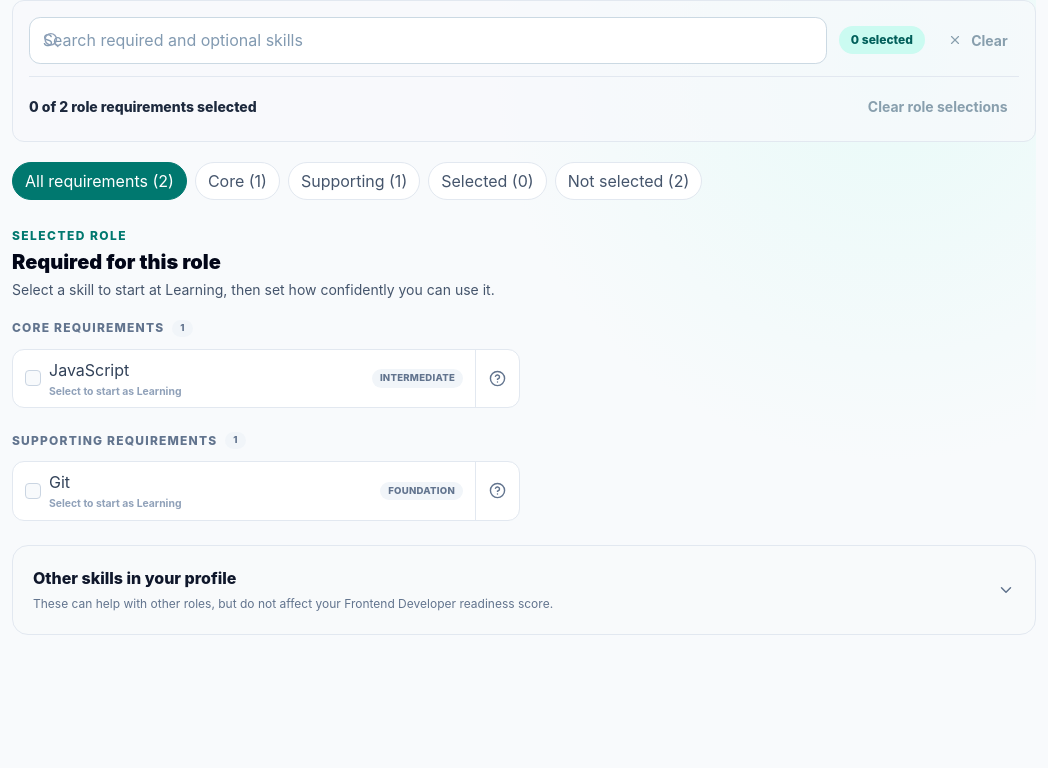
Test: SkillSelector › searches required and unrelated skills, then restores the collapsed role-aware view
Step 1. Type "java" into the search field named "Search skills" → (428, 40), box [29,17,827,64]
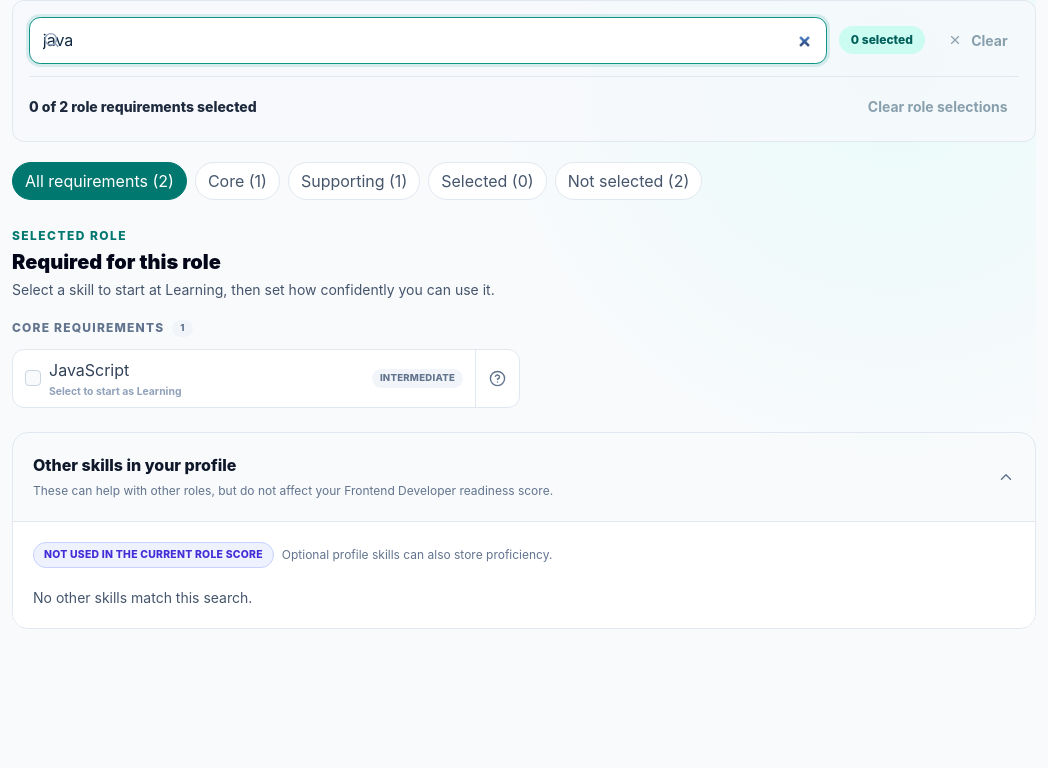
Expected: the checkbox labelled "JavaScript" is shown, [13,350,475,407]
Expected: the checkbox labelled "Machine Learning" is not shown
Step 2. Replace the text in the search field named "Search skills" with "machine" → (428, 40), box [29,17,827,64]
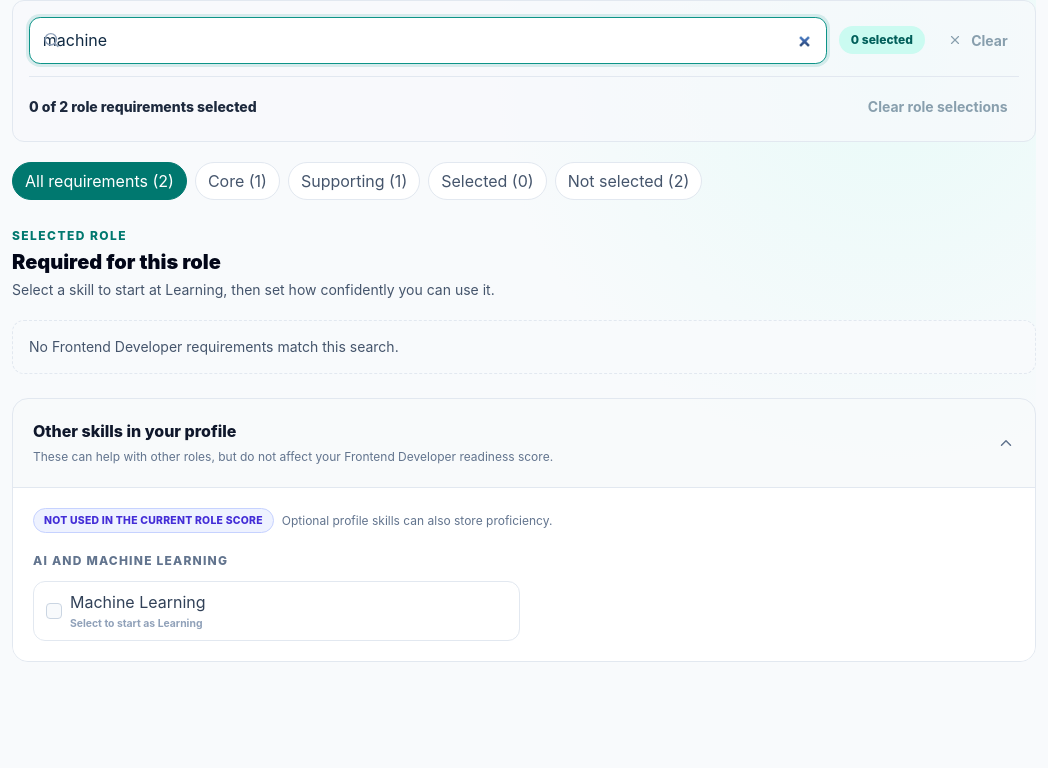
Now the checkbox named "Machine Learning, not used in the current role score" is shown, box [34,582,519,640]
Now the text "No Frontend Developer requirements match this search." is shown, box [12,320,1036,374]
Now the button "Other skills in your profile" is expanded, box [13,399,1035,487]
Step 3. Clear the search field named "Search skills" → (428, 40), box [29,17,827,64]
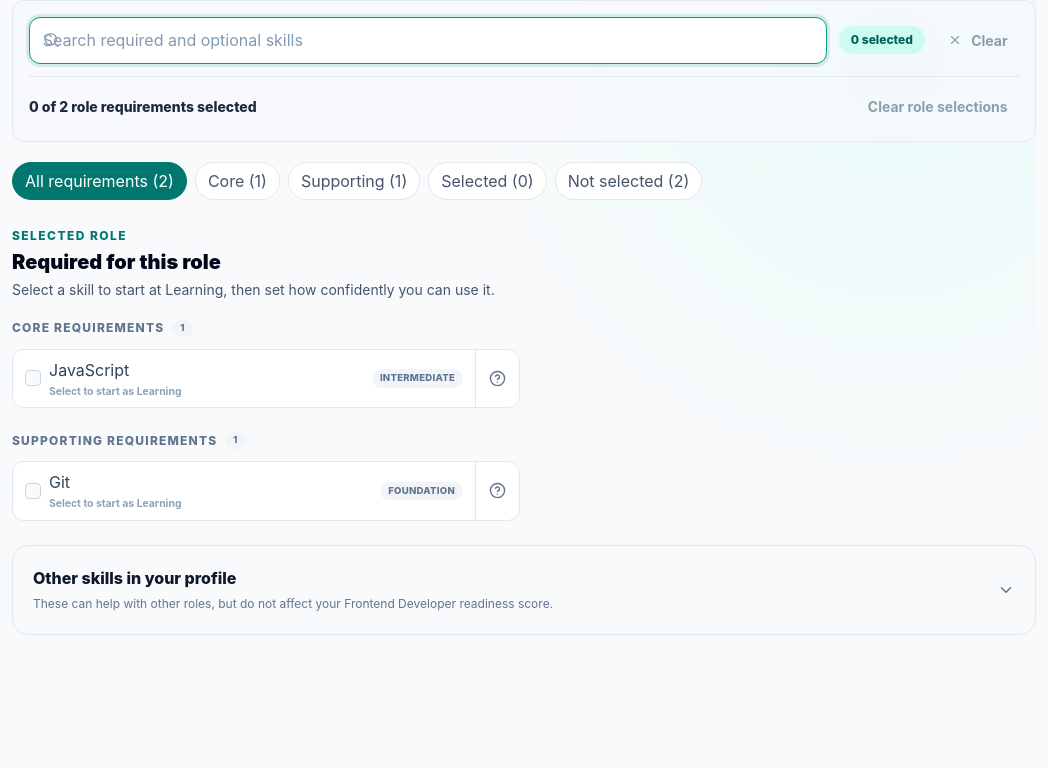
Now the checkbox labelled "JavaScript" is shown, box [13,350,475,407]
Now the text "Machine Learning" is gone
Now the button "Other skills in your profile" is collapsed, box [13,546,1035,634]
